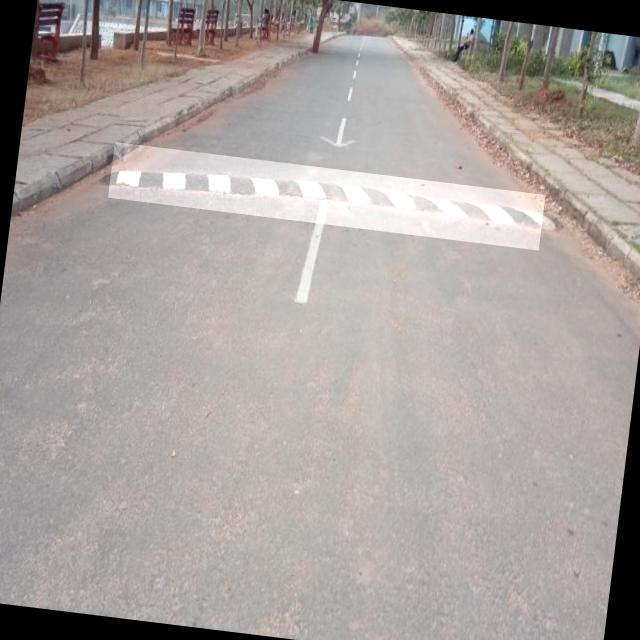bump: (107, 142, 545, 250)
